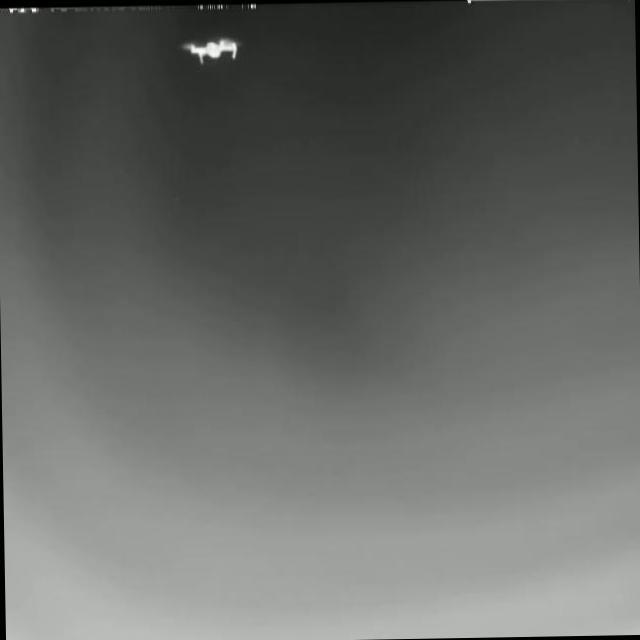DRONE: (180, 35, 247, 65)
